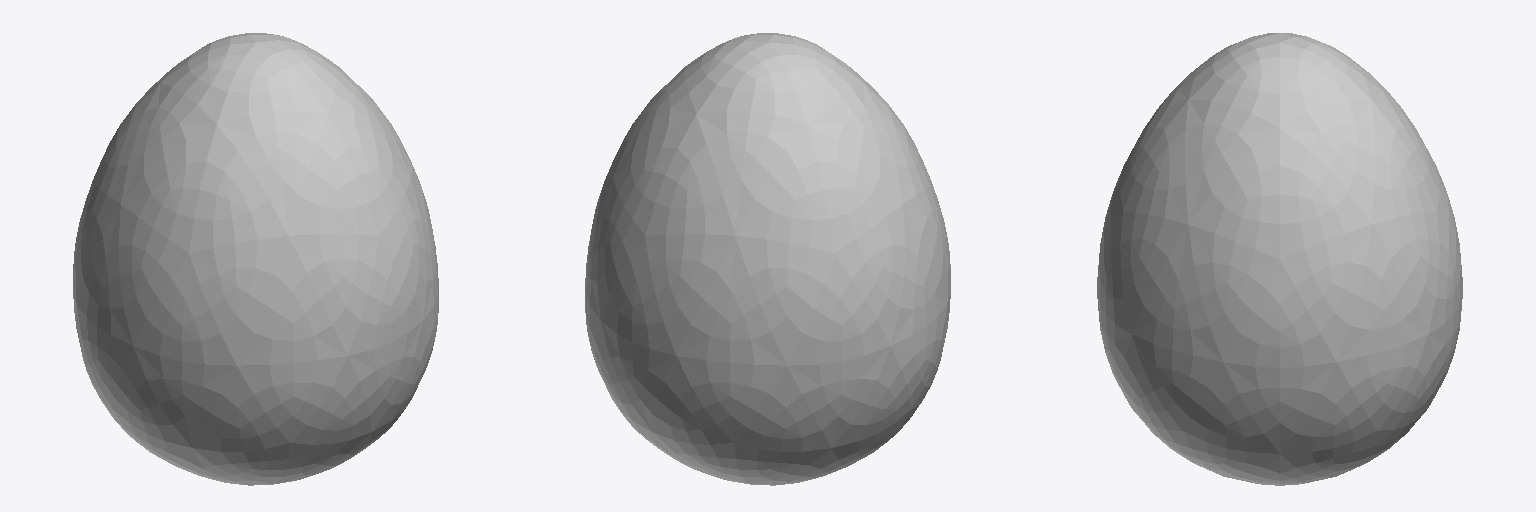
Rendered from egg-1.obj.
The picture shows the model from 3 angles: view 1: azimuth 30°, elevation 25°; view 2: azimuth 150°, elevation 25°; view 3: azimuth 270°, elevation 25°; orthographic projection.
Visible parts, largest first — view 1: Icosphere; view 2: Icosphere; view 3: Icosphere.
Boxes of the visible parts, x1,y1,x2,y2 form: Icosphere: [73, 33, 438, 485]; Icosphere: [585, 33, 950, 485]; Icosphere: [1097, 33, 1462, 485].
Bounding box in the file's own units: 1.85 × 2.38 × 1.85.